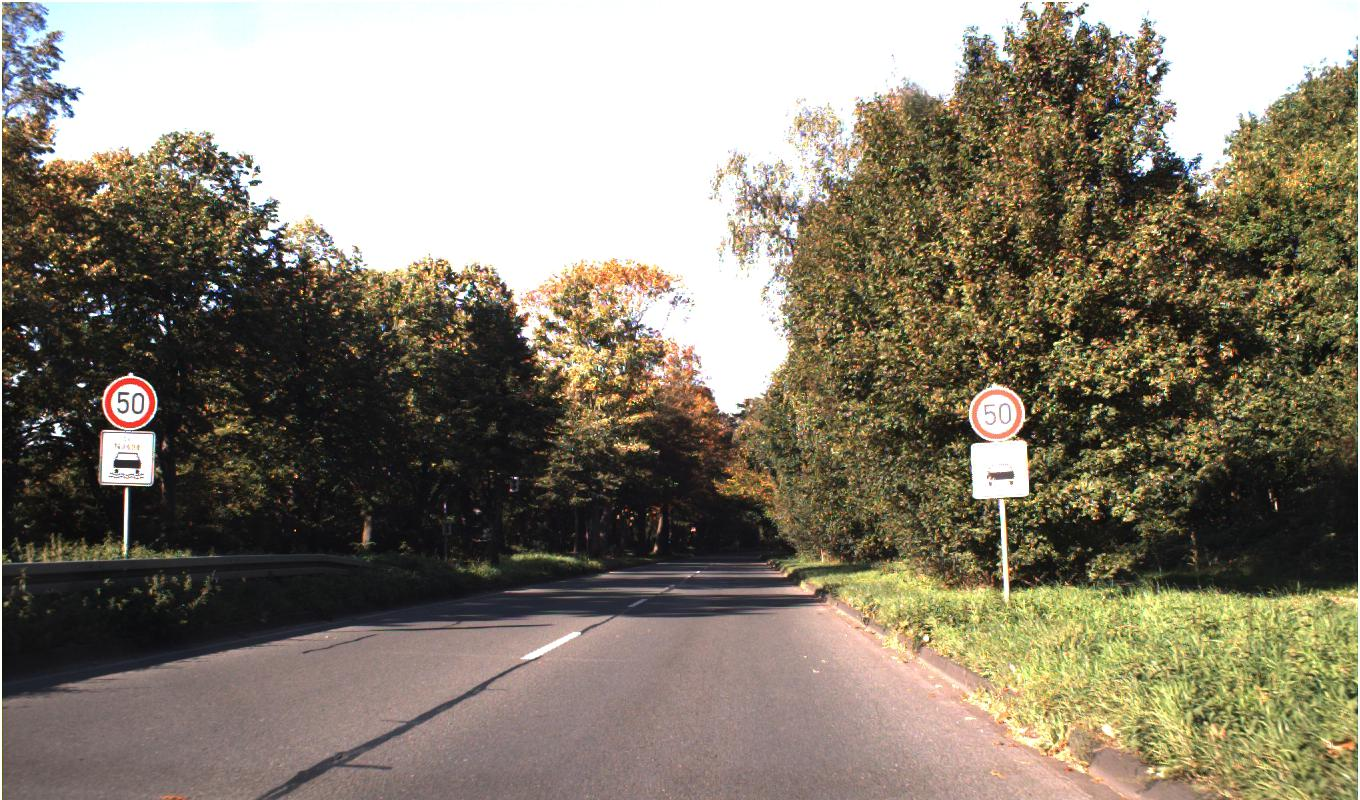prohibitory: (969, 386, 1024, 441), (102, 375, 157, 430)
